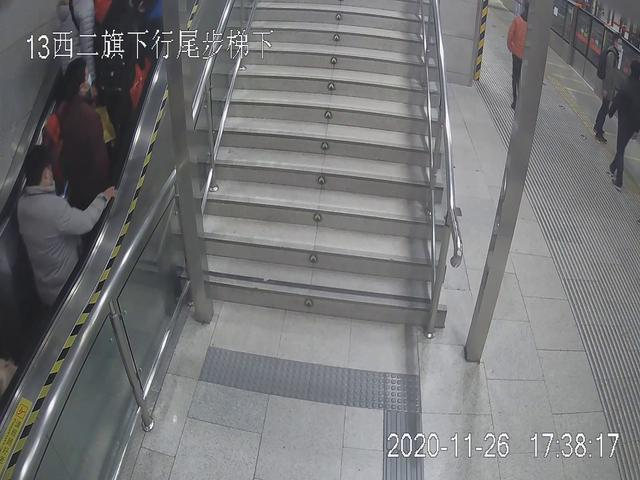person: (10, 141, 109, 300), (47, 57, 117, 203), (589, 35, 626, 138), (615, 63, 640, 192)
